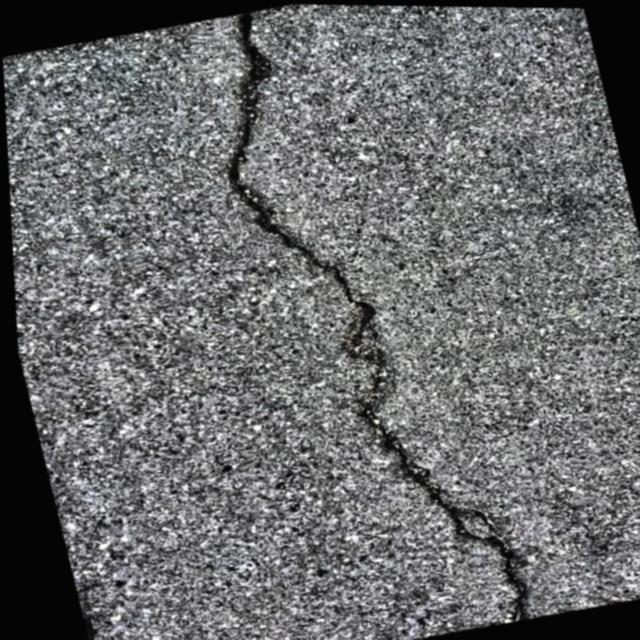cracks: (228, 11, 519, 622)
